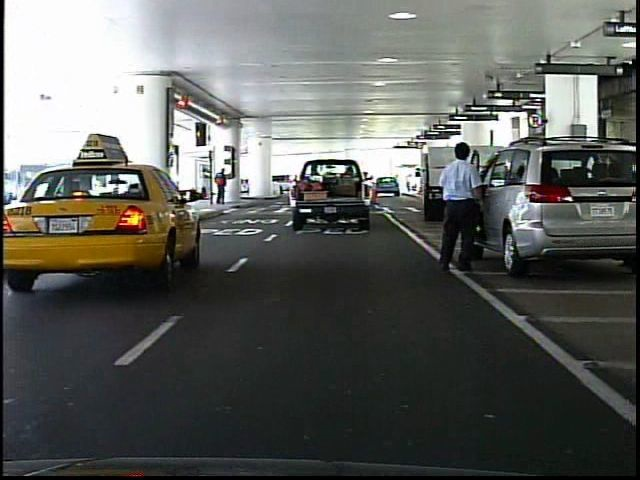person: (431, 136, 488, 279), (212, 165, 230, 207)
